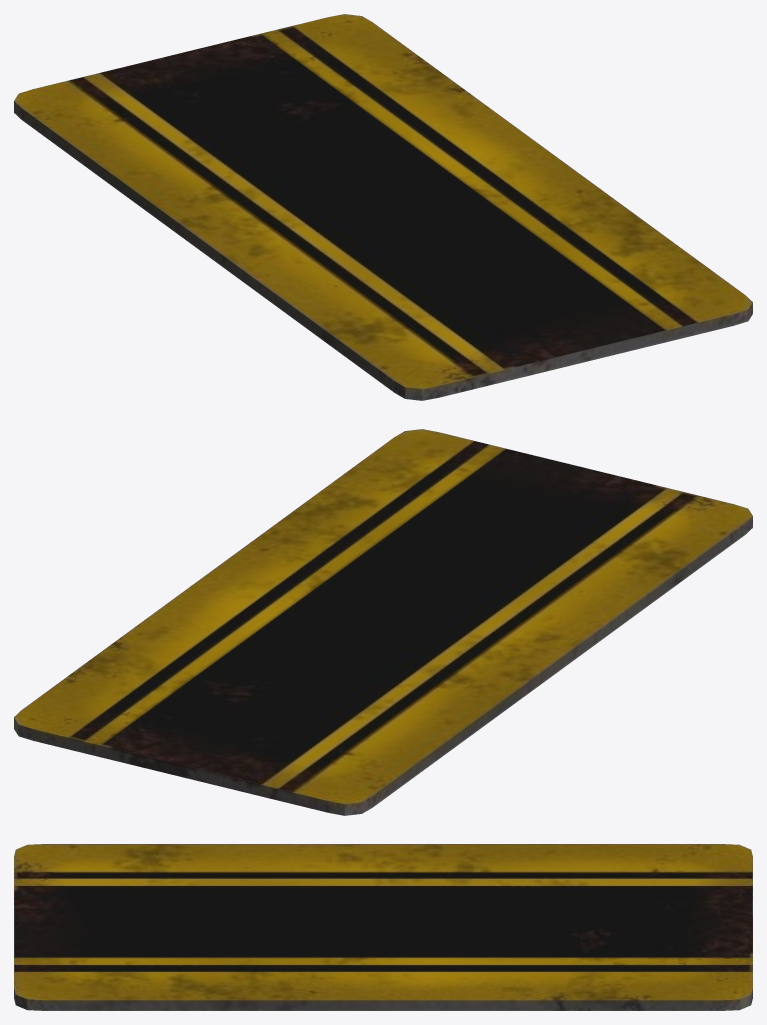
The model's file is Sign_D.fbx.
The picture shows the model from 3 angles, top to bottom: view 1: azimuth 30°, elevation 25°; view 2: azimuth 150°, elevation 25°; view 3: azimuth 270°, elevation 25°; orthographic projection. The views are drawn at different scales.
Parts seen in each view (by area): view 1: Sign_D; view 2: Sign_D; view 3: Sign_D.
Part boxes in pixels (left/top/right/bottom): Sign_D: left=14, top=14, right=752, bottom=400; Sign_D: left=14, top=429, right=752, bottom=815; Sign_D: left=14, top=844, right=752, bottom=1010.
Bounding box in the file's own units: 25 × 0.8 × 50.
